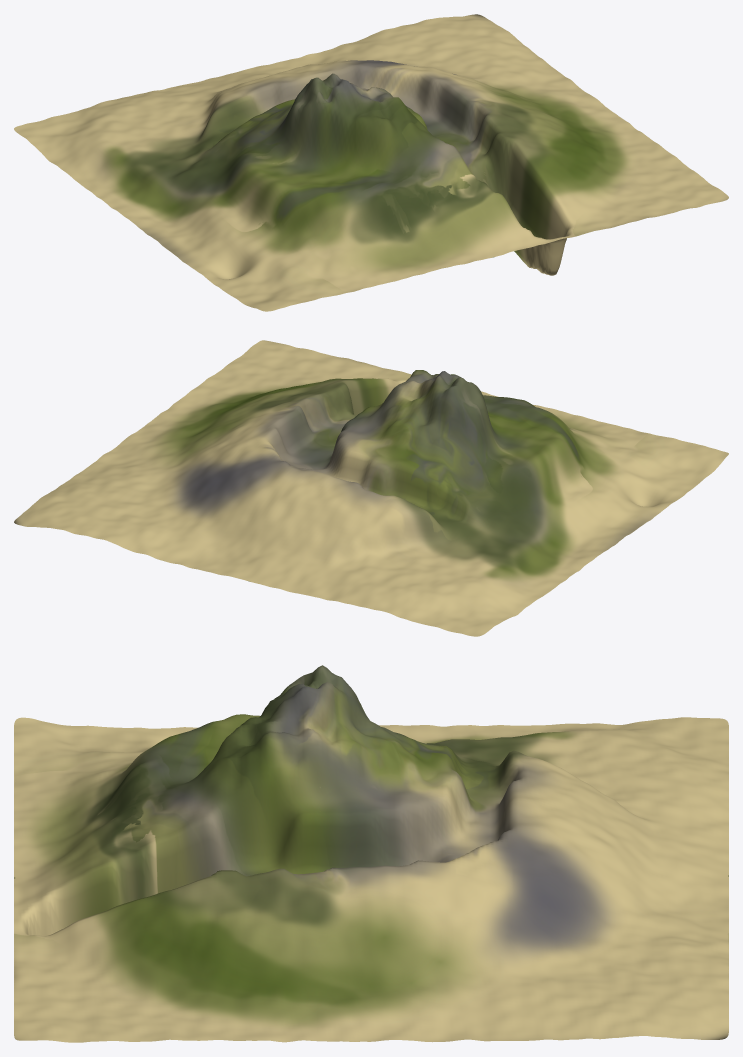
Rendered from valley.obj.
The picture shows the model from 3 angles, top to bottom: view 1: azimuth 30°, elevation 25°; view 2: azimuth 150°, elevation 25°; view 3: azimuth 270°, elevation 25°; orthographic projection. The views are drawn at different scales.
Visible parts, largest first — view 1: new_island.001_Plane.003; view 2: new_island.001_Plane.003; view 3: new_island.001_Plane.003.
Boxes of the visible parts, x1=… form: new_island.001_Plane.003: x1=14, y1=14, x2=728, y2=311; new_island.001_Plane.003: x1=14, y1=340, x2=728, y2=636; new_island.001_Plane.003: x1=14, y1=665, x2=728, y2=1042.
Size of the model in its own units: 40.86 by 13.18 by 38.19.
